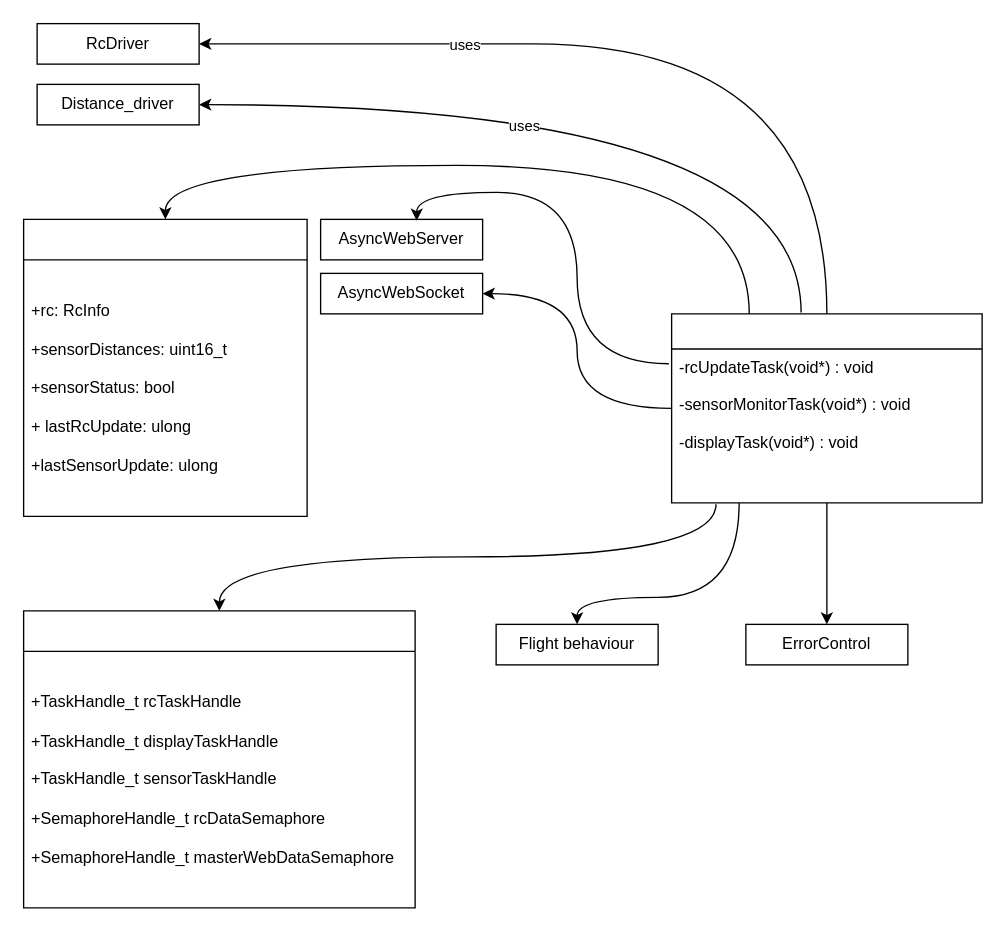
Image size: 1006x932. Some labels were removed from this diagram. The box of each missing label's shape, as (x1, y1, x2, y2) in pixels:
FreeRTOSComponents: (22, 610, 415, 908)
Main: (670, 313, 982, 503)
WebPageData: (22, 218, 307, 516)
